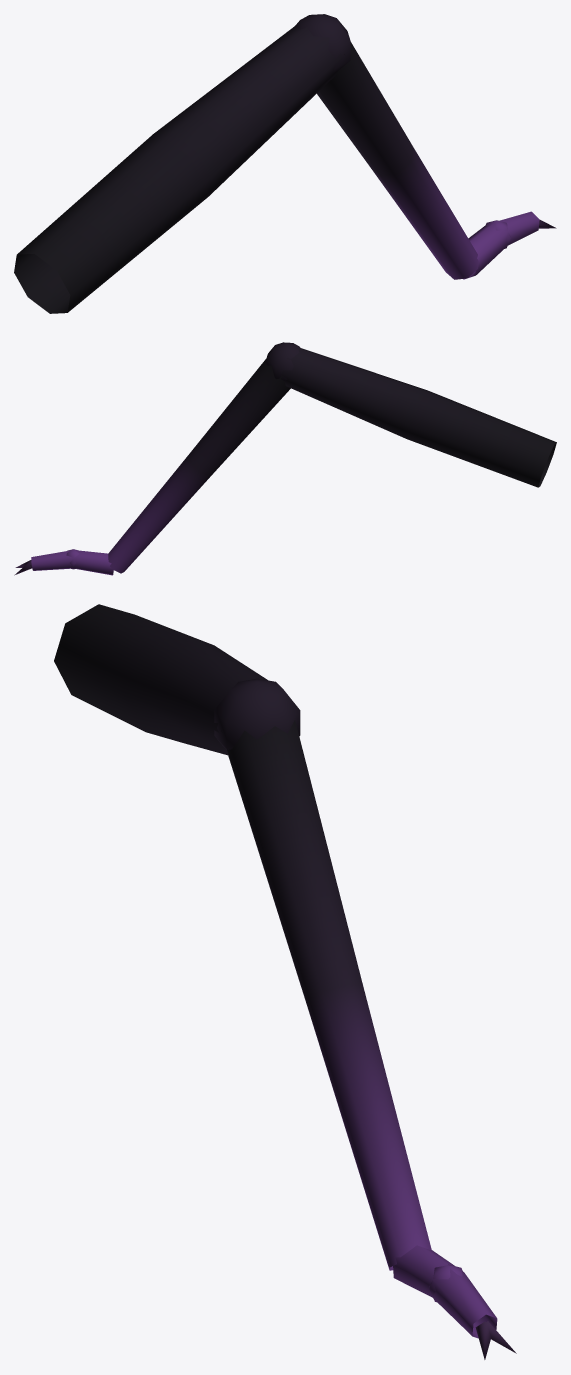
Rendered from Maimaikaburi_Leg1.fbx.
3 views of the same model, one above another, from view 1: azimuth 30°, elevation 25°; view 2: azimuth 150°, elevation 25°; view 3: azimuth 270°, elevation 25° (orthographic). The views are drawn at different scales.
Visible parts, largest first — view 1: Maimaikaburi_Leg1; view 2: Maimaikaburi_Leg1; view 3: Maimaikaburi_Leg1.
Part boxes in pixels (x1,y1,x2,y2): Maimaikaburi_Leg1: [14, 14, 556, 313]; Maimaikaburi_Leg1: [14, 342, 556, 575]; Maimaikaburi_Leg1: [54, 604, 516, 1359].
Bounding box in the file's own units: 0.5012 × 0.2534 × 0.2254.
